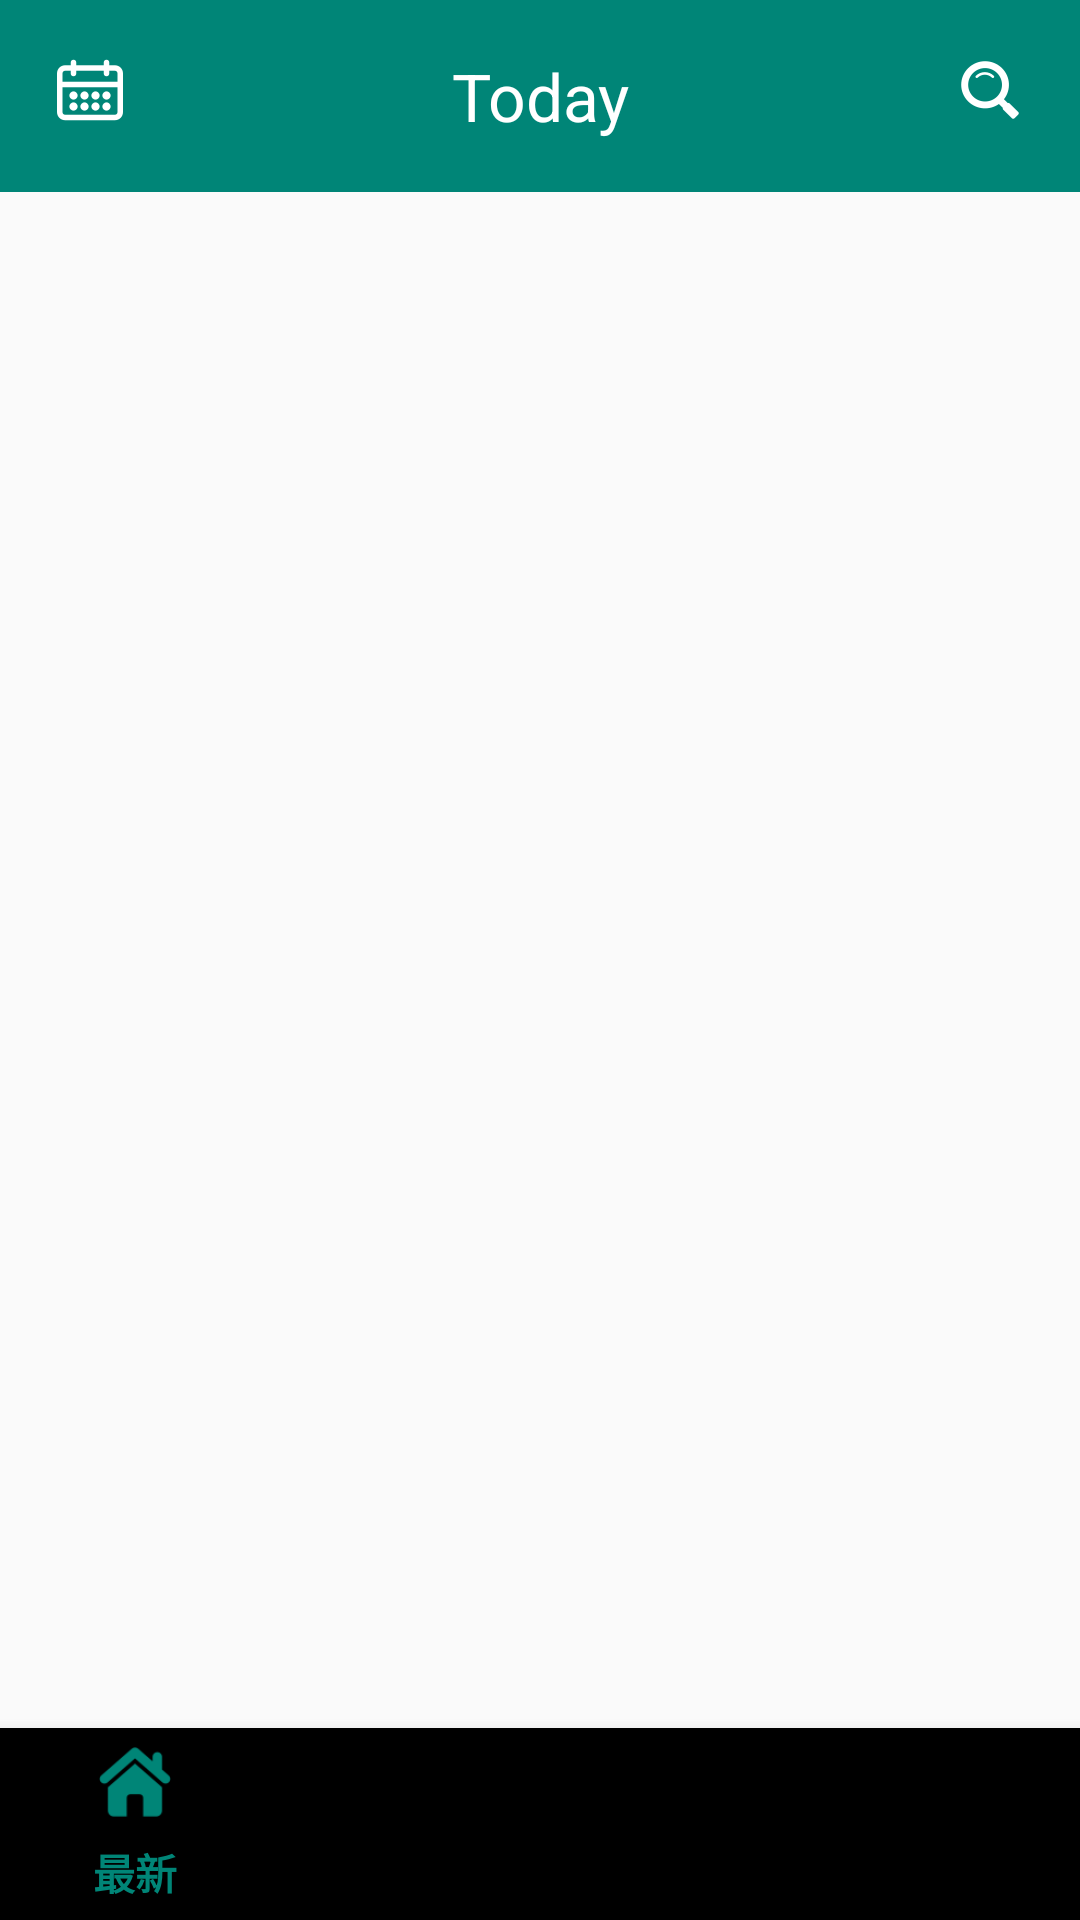

Icon bounding boxes for this 1080 x 1920 phone screenshot, format detection(x1, y1, x2, y2):
calendar: detection(57, 59, 123, 121)
search: detection(961, 61, 1019, 119)
